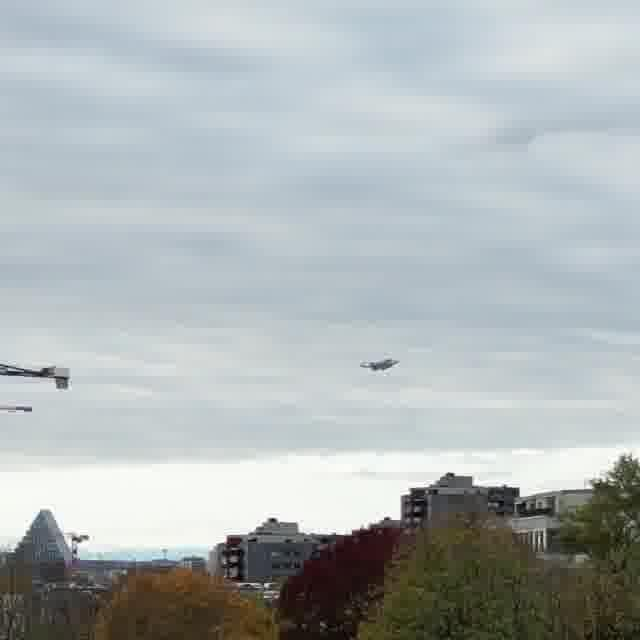Drohne: (361, 358, 399, 371)
